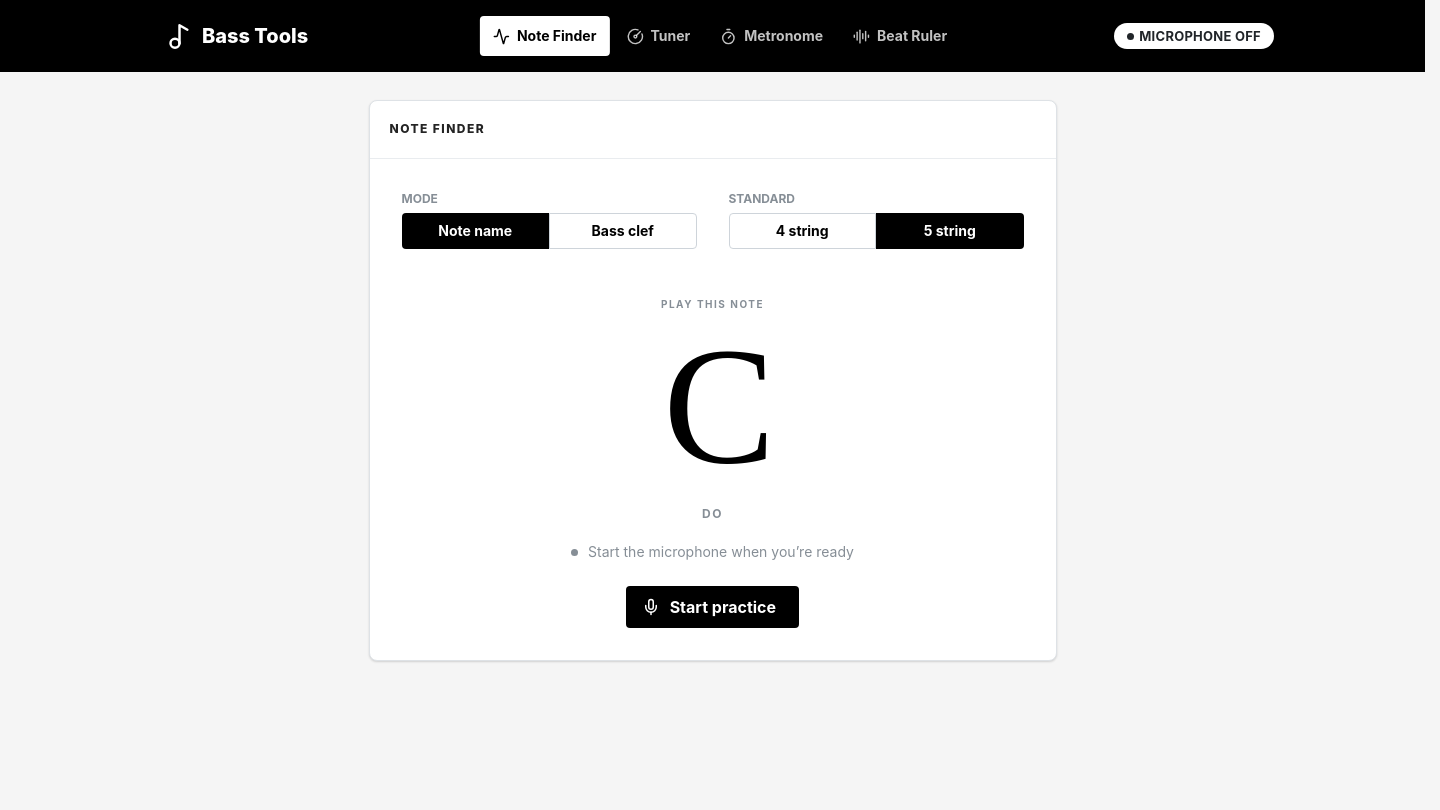
Test case: App › advances hands-free after a short success confirmation
Click the button "Start practice" at (713, 607), box [626,586,799,628]
Wait 480 ms
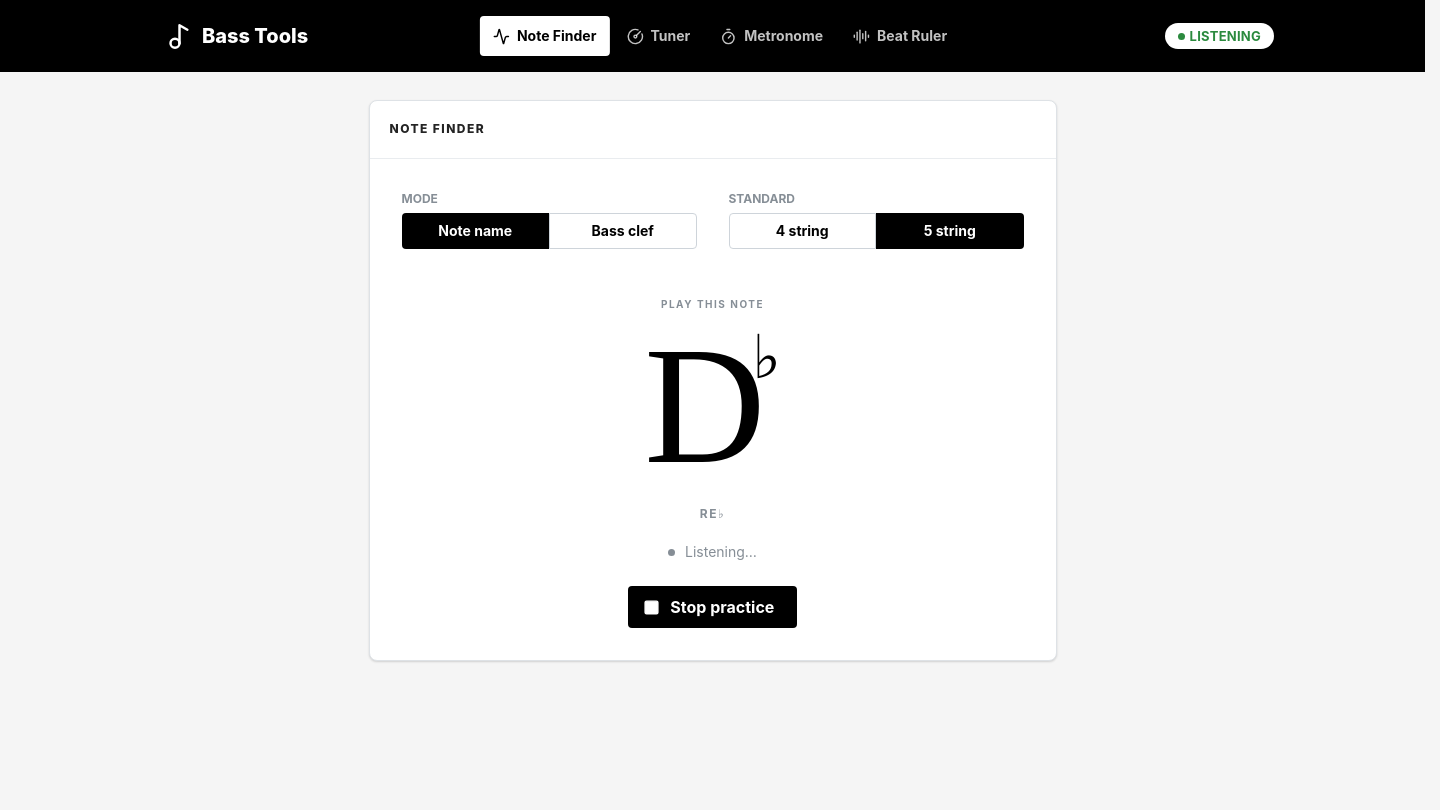
Check: the element named "Play D♭" is shown, box [644,321,781,524]
Check: the text "Listening…" is shown, box [668,538,757,566]
